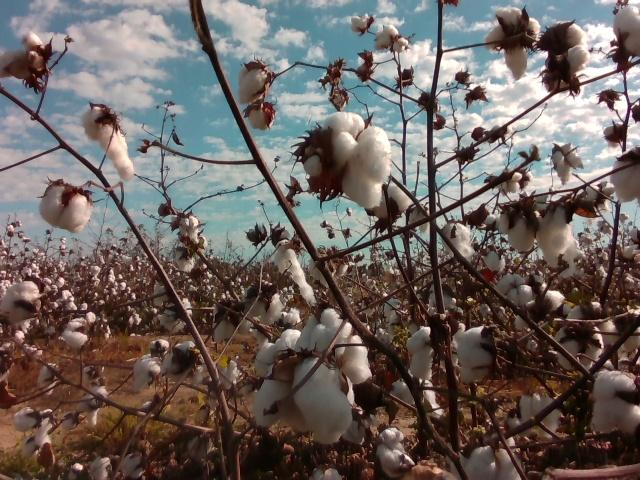cotton_ready: (294, 309, 374, 444), (306, 114, 391, 210), (251, 329, 313, 435), (484, 8, 540, 82), (83, 107, 134, 181), (590, 373, 640, 434), (274, 239, 318, 306), (39, 182, 92, 234), (460, 441, 526, 480), (556, 325, 605, 372), (516, 284, 566, 330), (456, 326, 494, 384), (538, 207, 574, 268), (0, 30, 43, 79), (518, 389, 559, 440), (162, 340, 205, 386), (498, 206, 541, 251), (393, 379, 442, 416), (364, 183, 413, 220), (405, 326, 435, 382), (0, 281, 39, 324), (243, 286, 284, 326), (379, 429, 414, 474), (554, 22, 587, 68), (552, 141, 585, 184), (613, 5, 640, 57), (611, 158, 640, 203), (62, 312, 98, 347), (238, 66, 270, 104), (606, 318, 640, 353), (160, 297, 194, 332), (132, 354, 164, 391), (444, 222, 473, 261), (372, 24, 409, 53), (497, 274, 530, 305), (213, 303, 238, 342), (246, 108, 273, 129), (350, 12, 372, 35)
